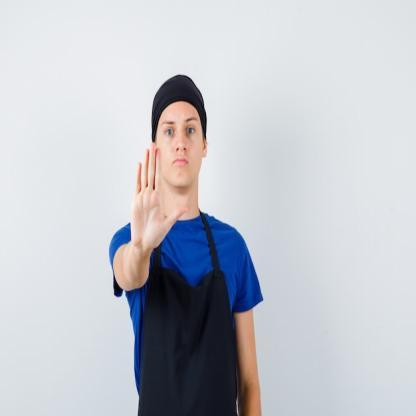stop: (131, 139, 190, 251)
